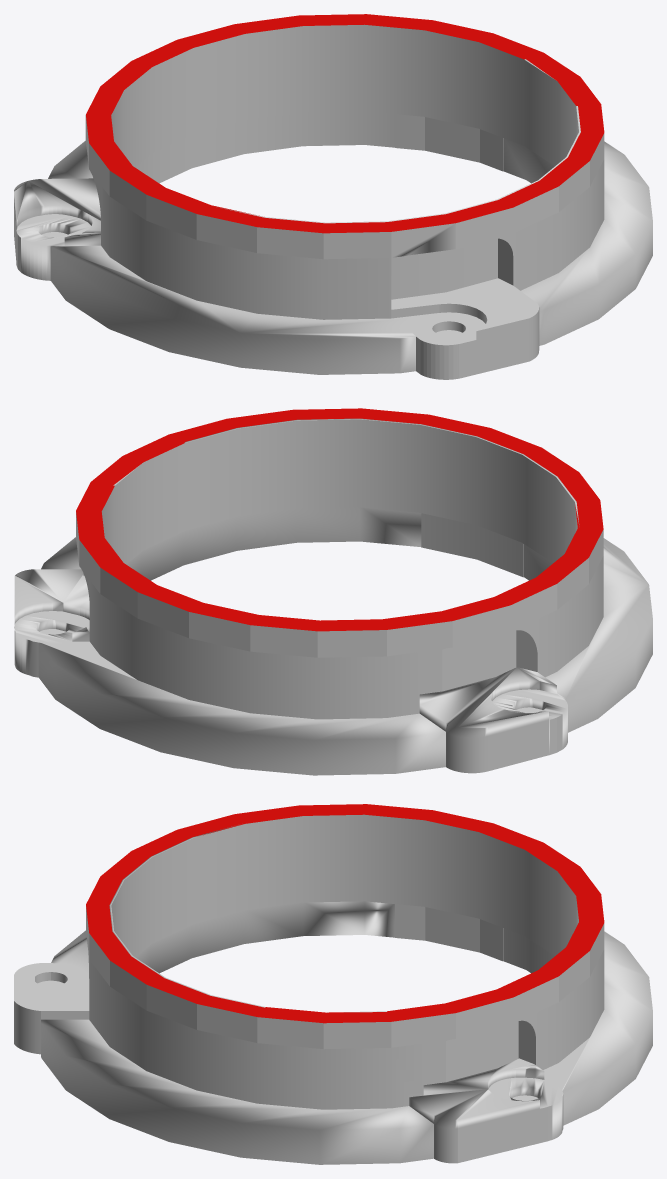
Rendered from fix_scene 3c.fbx.
3 views of the same model, one above another, from view 1: azimuth 30°, elevation 25°; view 2: azimuth 150°, elevation 25°; view 3: azimuth 270°, elevation 25° (orthographic).
Visible parts, largest first — view 1: 1.001, 1.002; view 2: 1.001, 1.002; view 3: 1.001, 1.002.
Boxes of the visible parts, x1,y1,x2,y2 form: 1.001: (14,24,652,379); 1.002: (86,14,604,233); 1.001: (14,418,652,775); 1.002: (76,408,603,631); 1.001: (14,814,652,1164); 1.002: (86,804,604,1023).
Bounding box in the file's own units: 58.84 × 12.66 × 60.52.
